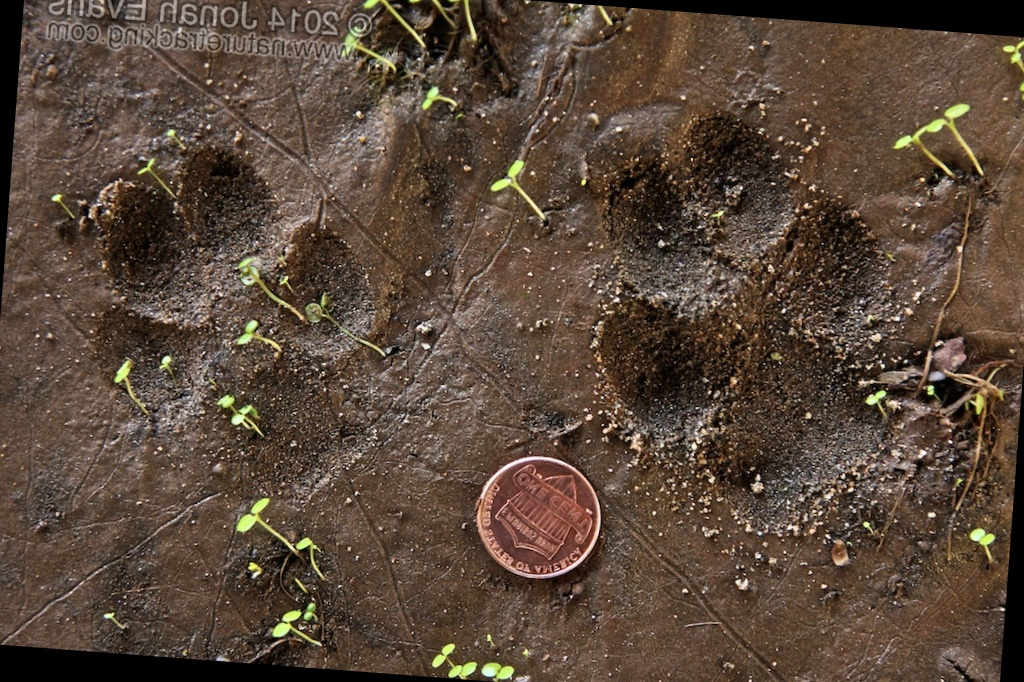coyote: (576, 106, 939, 551), (71, 127, 377, 467)
